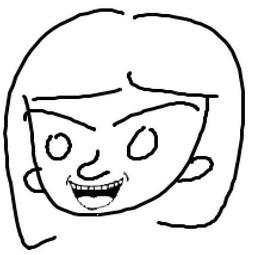ear: (175, 153, 217, 186), (21, 165, 43, 197)
empty_eye: (122, 123, 163, 169), (38, 130, 73, 160)
frowning_eyebrow: (109, 100, 200, 127), (20, 109, 98, 134)
nose: (74, 150, 113, 182)
open_mouth: (69, 180, 125, 212)
